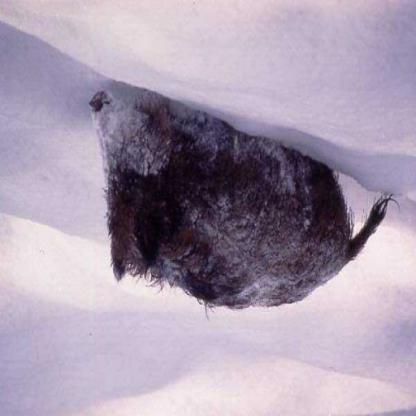boar: (60, 63, 402, 336)
